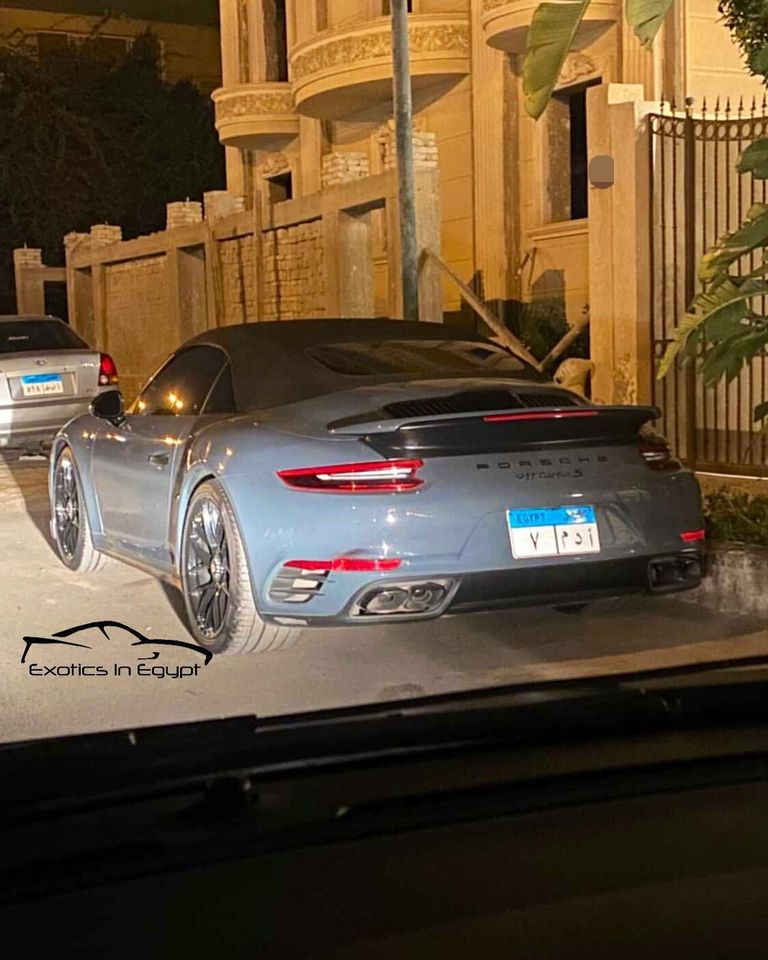carpl: (516, 509, 606, 561)
